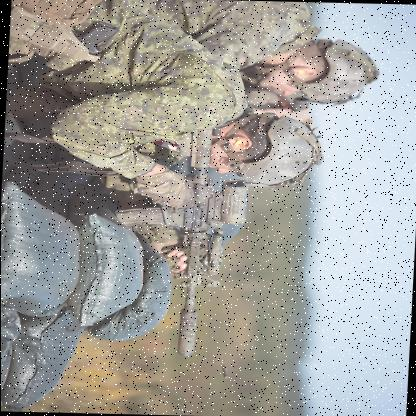rifle: (113, 123, 248, 361)
